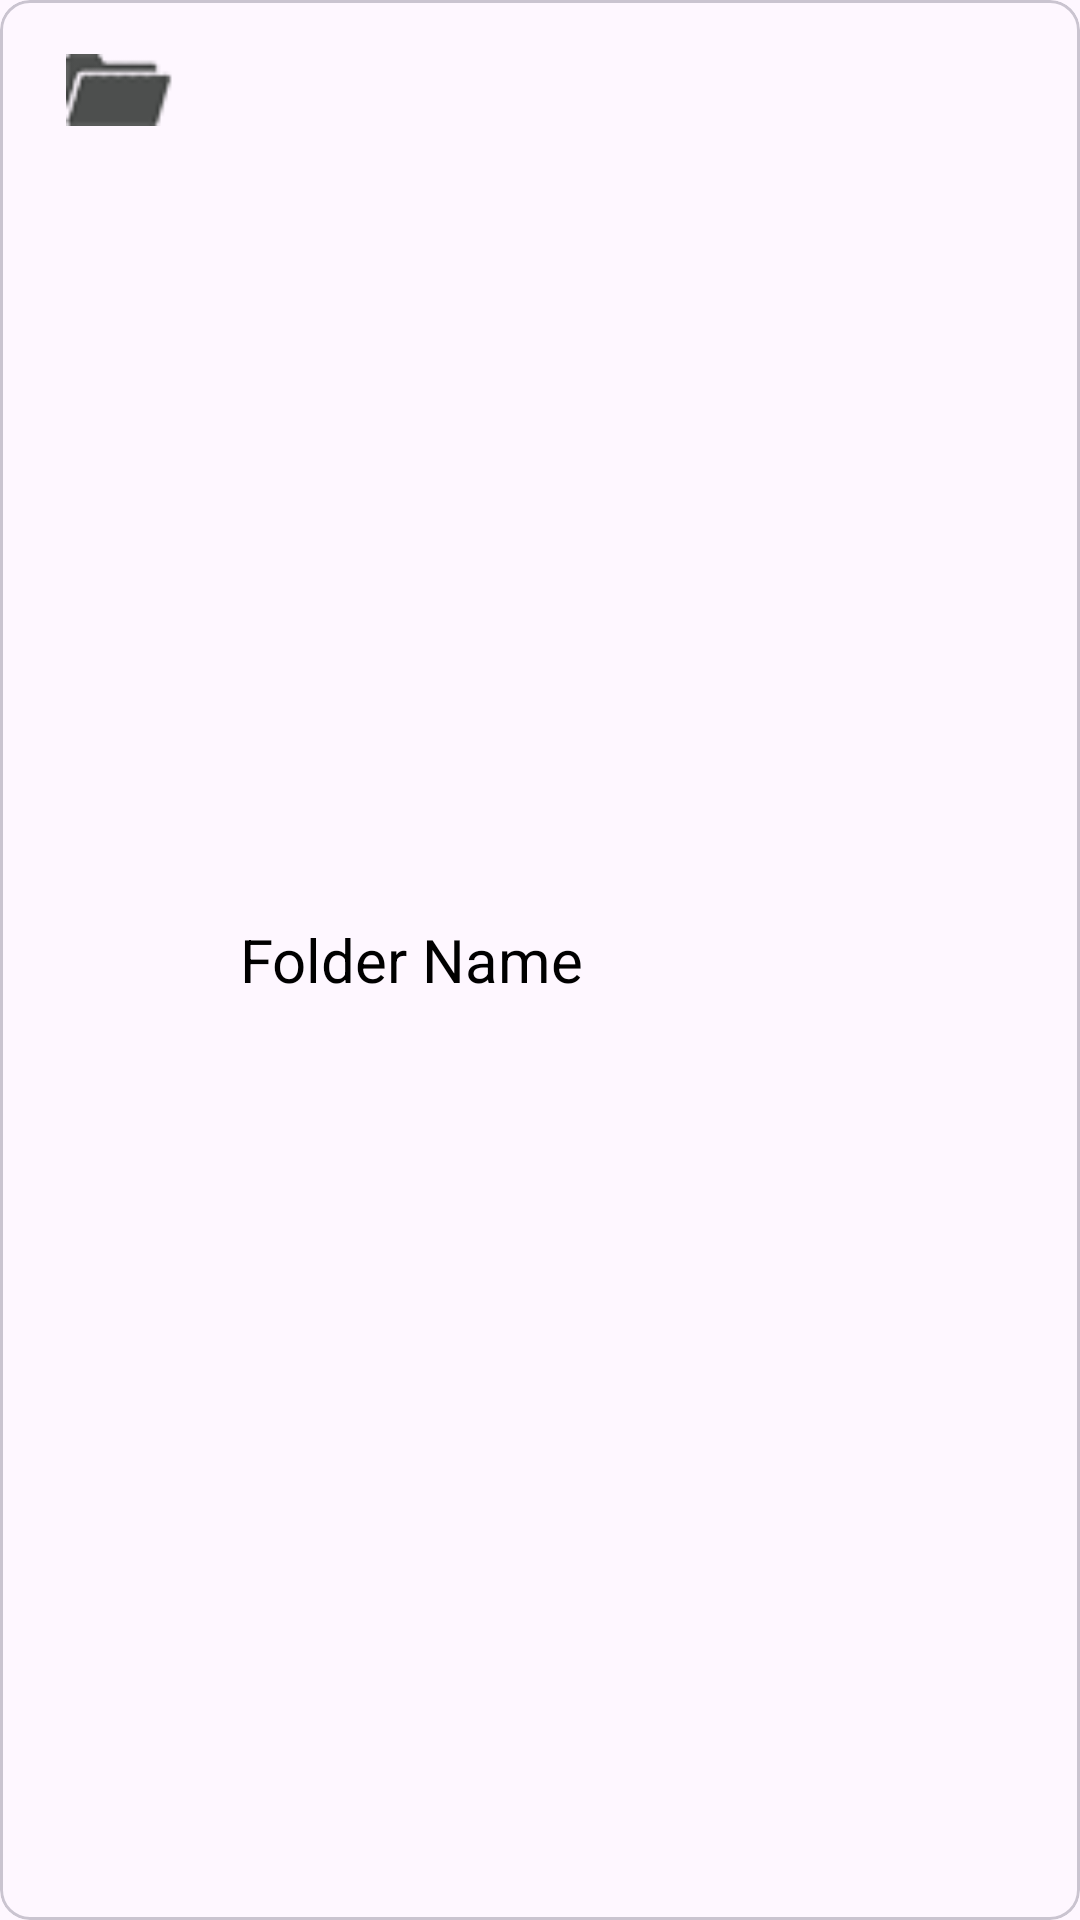

Where to tap for icons on this 1080px×1920px app screen, as (x=x, y=y):
folders: (x=119, y=90)
